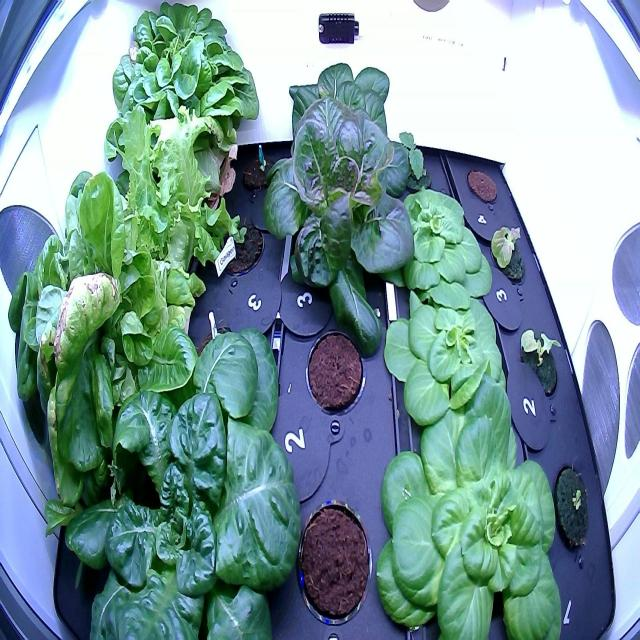Ready: (0, 152, 205, 516), (89, 0, 262, 223)
germination: (549, 455, 597, 559), (240, 140, 282, 198)
pod: (290, 491, 377, 633), (301, 319, 368, 427), (462, 160, 503, 211)
young: (59, 319, 308, 636), (368, 366, 568, 637), (249, 97, 417, 366), (377, 261, 513, 434), (374, 176, 496, 331), (271, 57, 406, 182), (515, 314, 565, 410), (213, 210, 268, 288), (485, 213, 530, 295)
